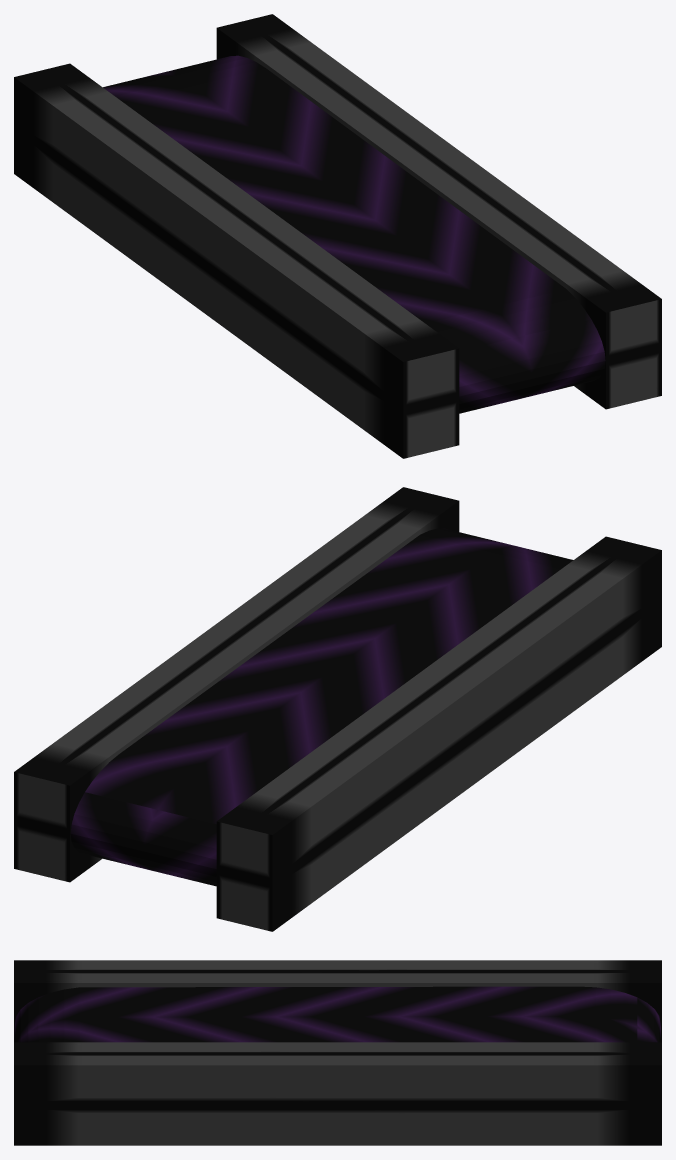
The model's file is conveyor.fbx.
3 renders of one model, top to bottom at view 1: azimuth 30°, elevation 25°; view 2: azimuth 150°, elevation 25°; view 3: azimuth 270°, elevation 25°, orthographic. The views are drawn at different scales.
Parts seen in each view (by area): view 1: Cube, conveyor; view 2: Cube, conveyor; view 3: Cube, conveyor.
Boxes of the visible parts, <box> form: Cube: <box>14,14,661,458</box>; conveyor: <box>103,55,605,413</box>; Cube: <box>14,487,661,931</box>; conveyor: <box>70,528,573,886</box>; Cube: <box>14,960,661,1145</box>; conveyor: <box>14,986,660,1042</box>.
Bounding box in the file's own units: 308 × 110 × 802.
